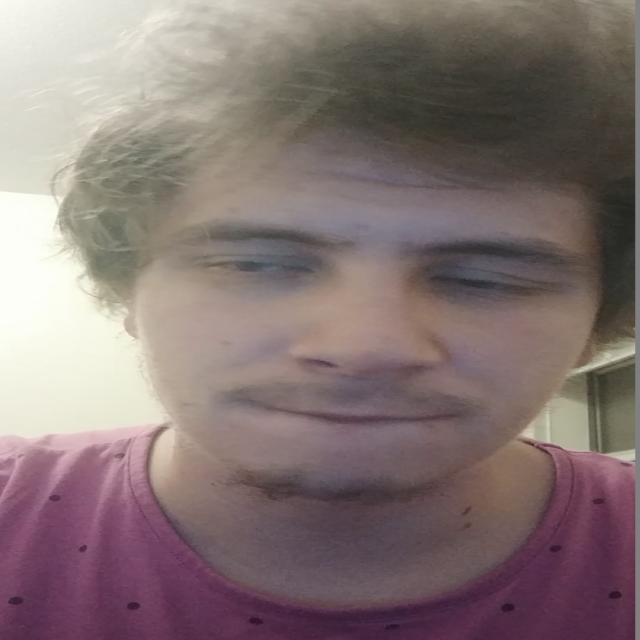sem_oculos: (15, 189, 598, 309)
